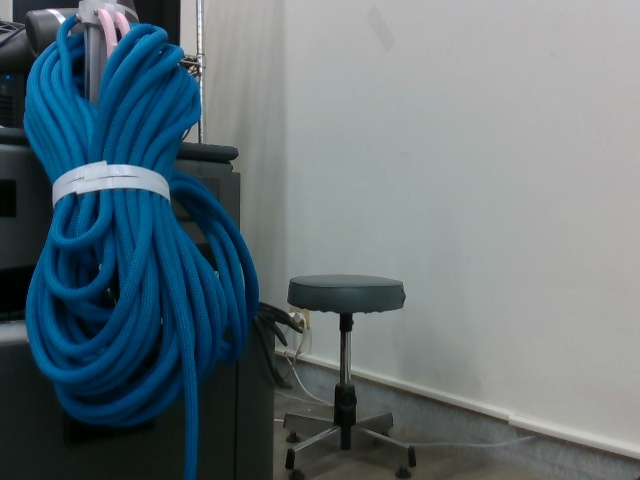rope: (21, 27, 263, 425)
